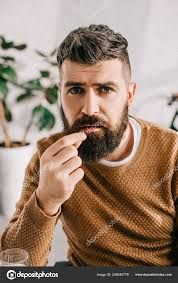no-mask: (48, 26, 144, 161)
